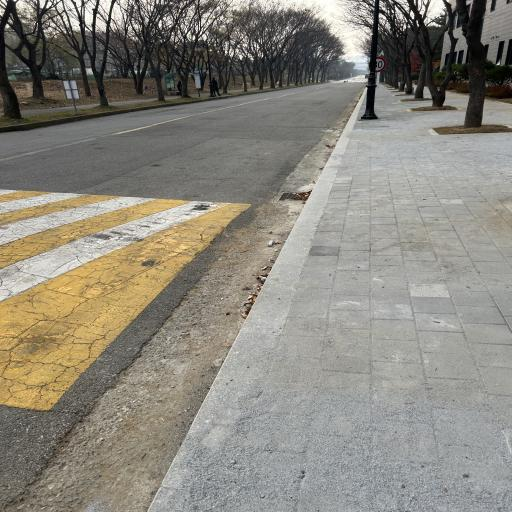debris: (293, 192, 307, 200)
drain: (281, 189, 311, 201)
